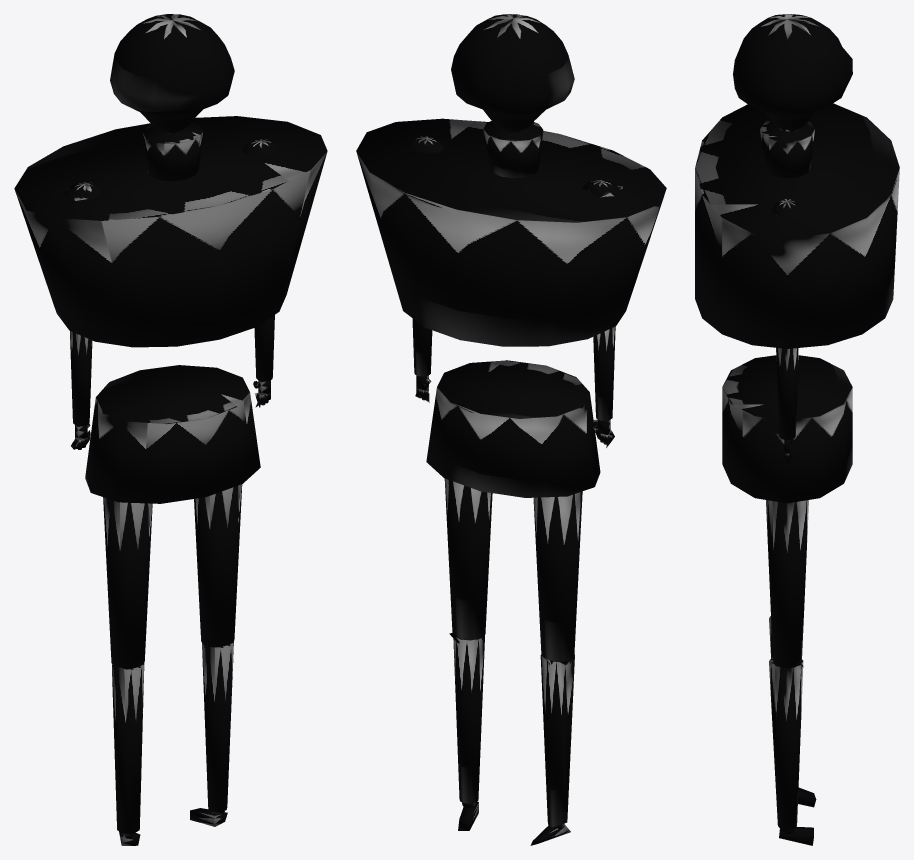
The model's file is zombie_bloated_1.glb.
The picture shows the model from 3 angles, left to right: view 1: azimuth 30°, elevation 25°; view 2: azimuth 150°, elevation 25°; view 3: azimuth 270°, elevation 25°; orthographic projection.
Parts seen in each view (by area): view 1: zombie_bloated_1; view 2: zombie_bloated_1; view 3: zombie_bloated_1.
Part boxes in pixels (x1,y1,x2,y2): zombie_bloated_1: [14, 14, 327, 845]; zombie_bloated_1: [356, 14, 666, 845]; zombie_bloated_1: [695, 14, 899, 845].
Size of the model in its own units: 0.6838 by 1.81 by 0.4169.
1 material, 1 textured.
